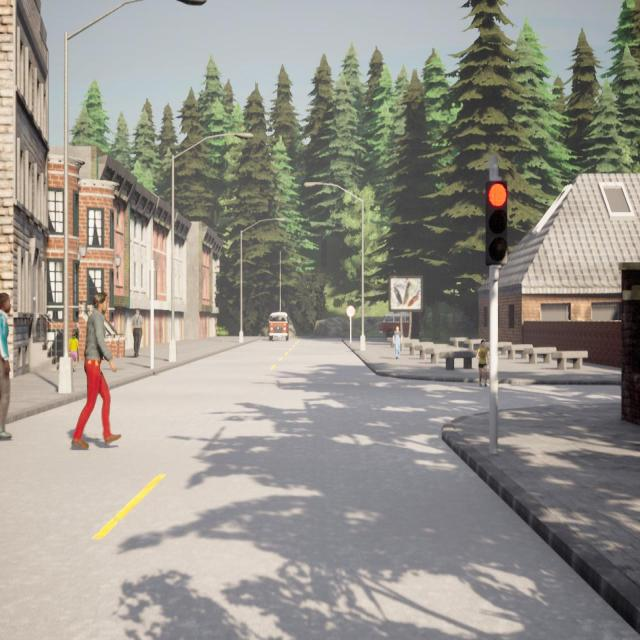Pedestrian: (72, 292, 120, 449), (0, 291, 14, 443), (475, 339, 488, 388), (131, 308, 143, 358), (68, 329, 78, 373), (392, 325, 404, 360)
Traffic_Signs: (346, 305, 356, 318)
Vehicle: (380, 313, 410, 336), (267, 313, 289, 342)
traffic_light: (485, 180, 508, 266), (149, 271, 157, 300)
